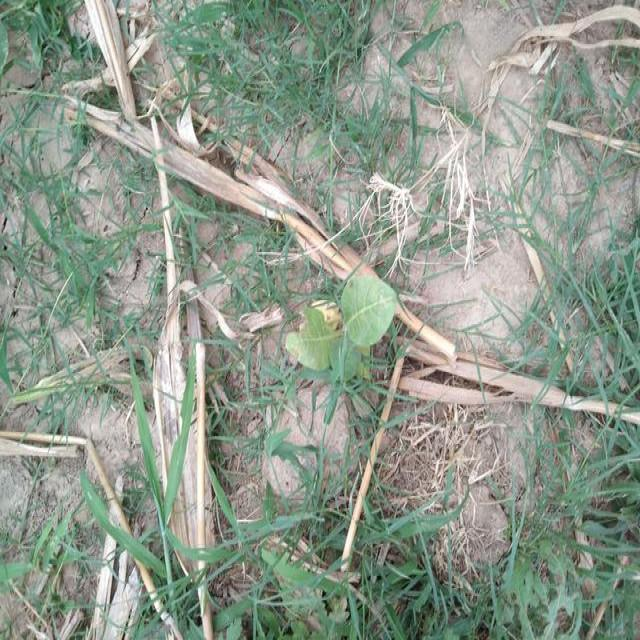crop: (286, 243, 401, 382)
